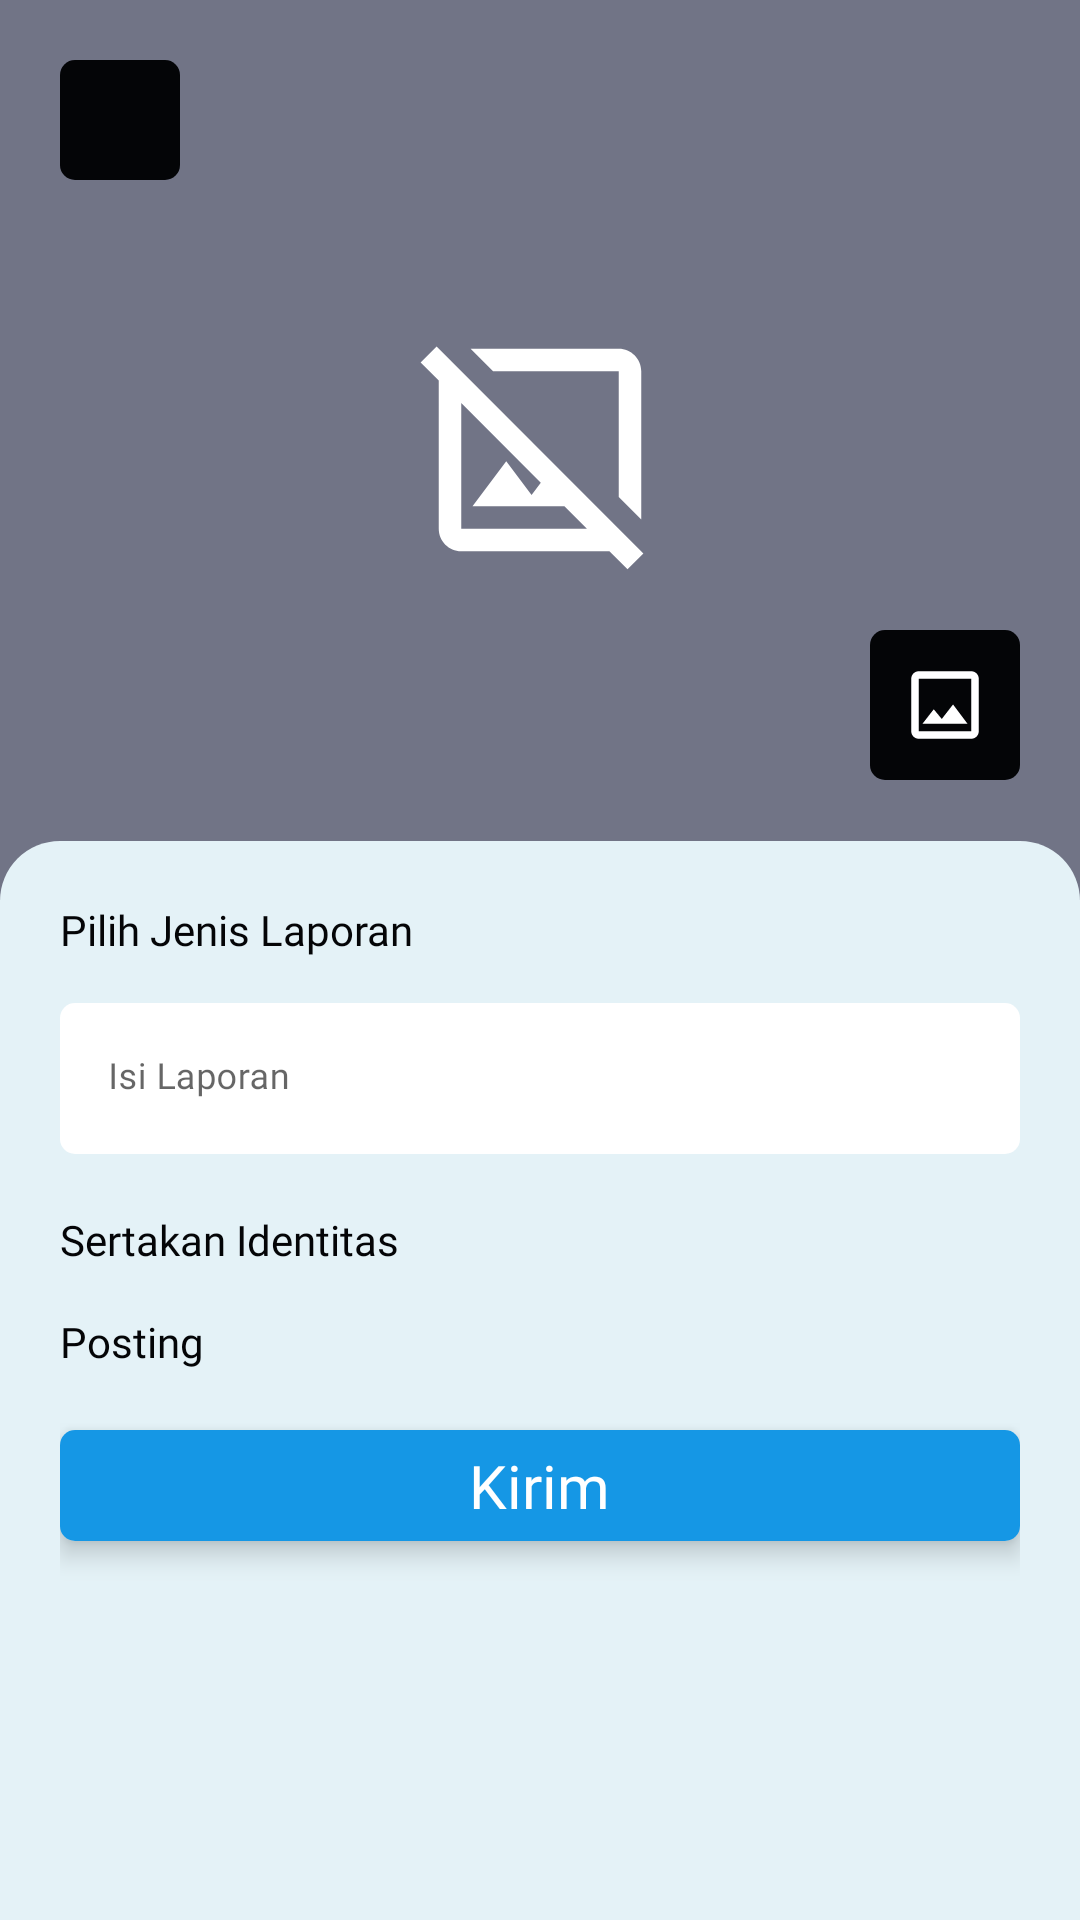

Where icons sit on this 1080x1920 app screen, as bbox=[x1, y1, x2, y2]:
pilih gambar: bbox=[911, 671, 979, 739]
tidak ada gambar: bbox=[421, 346, 643, 569]
